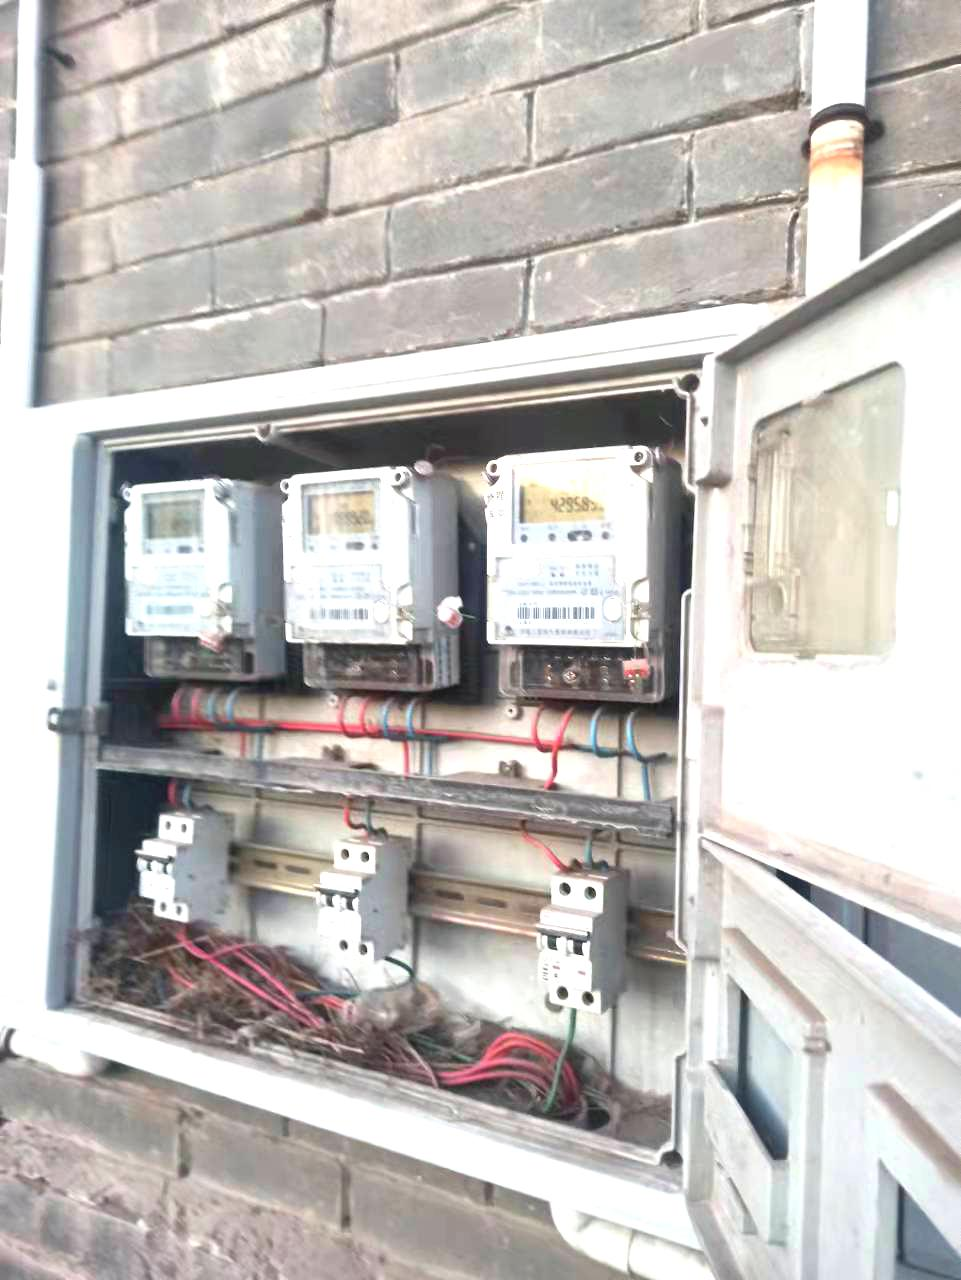digital: (486, 444, 650, 644), (281, 468, 413, 640), (123, 481, 225, 637)
